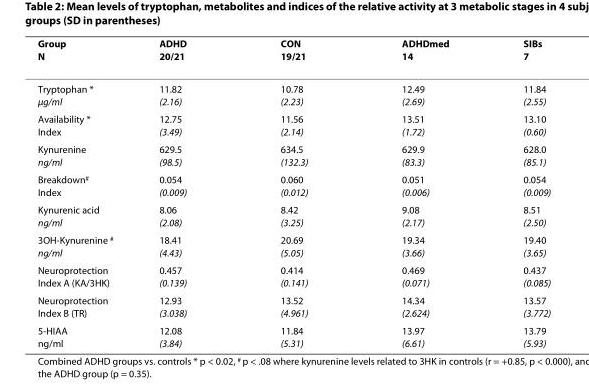table: (36, 37, 550, 348)
table column: (354, 37, 485, 348), (232, 37, 354, 348), (36, 37, 135, 348), (135, 37, 232, 348), (485, 37, 550, 348)
table column header: (36, 37, 550, 72)
table row: (36, 72, 550, 109), (36, 37, 550, 72), (36, 109, 550, 140), (36, 230, 550, 261), (36, 140, 550, 170), (36, 170, 550, 200), (36, 200, 550, 230), (36, 261, 550, 291), (36, 291, 550, 321), (36, 321, 550, 348)
